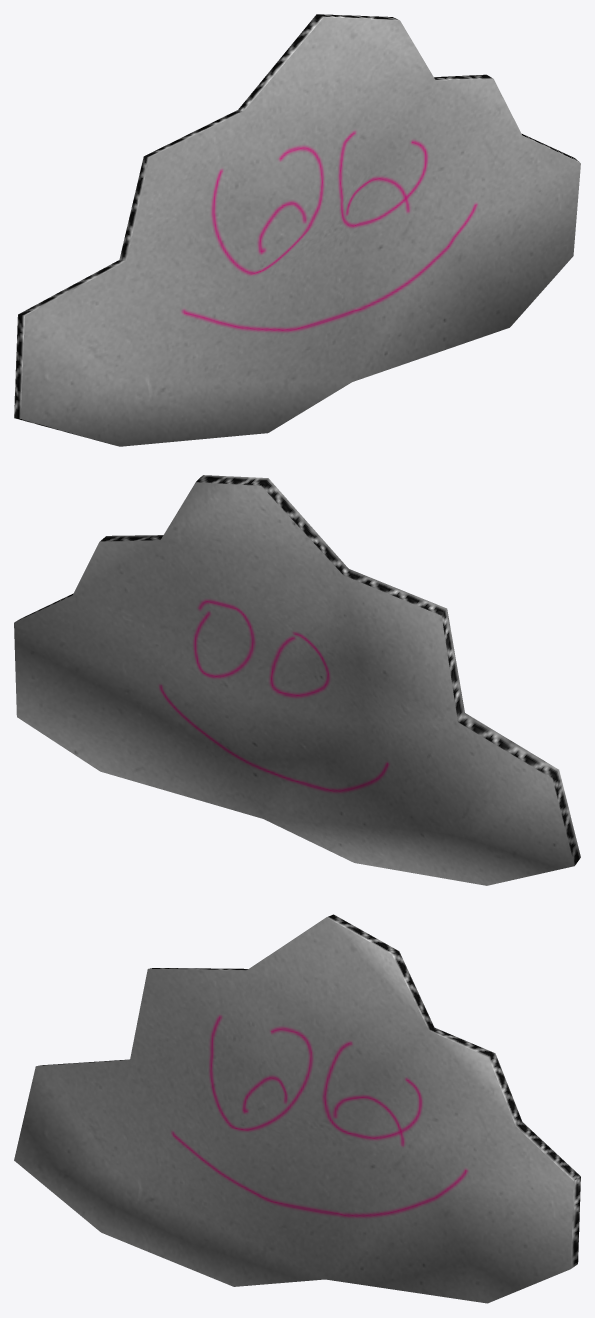
The model's file is CloudDesk.fbx.
3 renders of one model, top to bottom at view 1: azimuth 30°, elevation 25°; view 2: azimuth 150°, elevation 25°; view 3: azimuth 330°, elevation 25°, orthographic. The views are drawn at different scales.
Parts seen in each view (by area): view 1: Mesh; view 2: Mesh; view 3: Mesh.
Boxes of the visible parts, box(x1,y1,x2,y2) form: Mesh: box(14, 14, 580, 446); Mesh: box(14, 475, 580, 885); Mesh: box(14, 914, 580, 1303).
Bounding box in the file's own units: 444 × 288 × 37.25.
